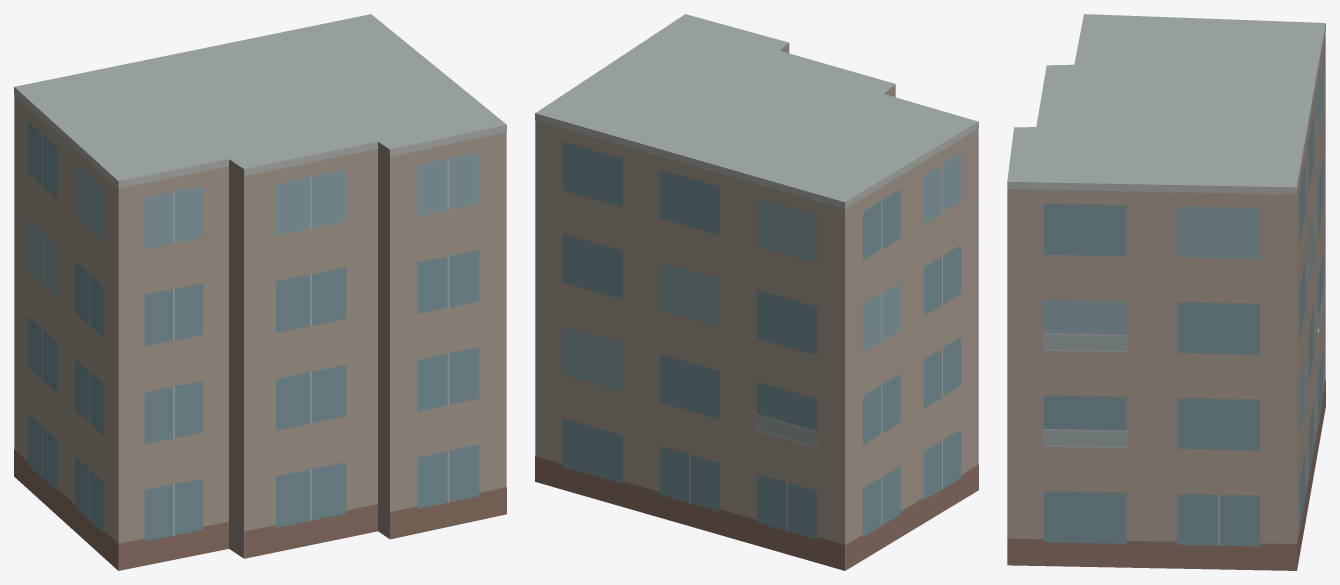
Rendered from survey-upis-32913127.glb.
The picture shows the model from 3 angles, left to right: view 1: azimuth 30°, elevation 25°; view 2: azimuth 150°, elevation 25°; view 3: azimuth 270°, elevation 25°; orthographic projection. The views are drawn at different scales.
Visible parts, largest first — view 1: survey-upis-32913127.tmp; view 2: survey-upis-32913127.tmp; view 3: survey-upis-32913127.tmp.
Part boxes in pixels (<box>): survey-upis-32913127.tmp: <box>14,14,506,570</box>; survey-upis-32913127.tmp: <box>535,14,978,570</box>; survey-upis-32913127.tmp: <box>1007,14,1325,570</box>.
Bounding box in the file's own units: 12.55 × 12.94 × 9.75.
